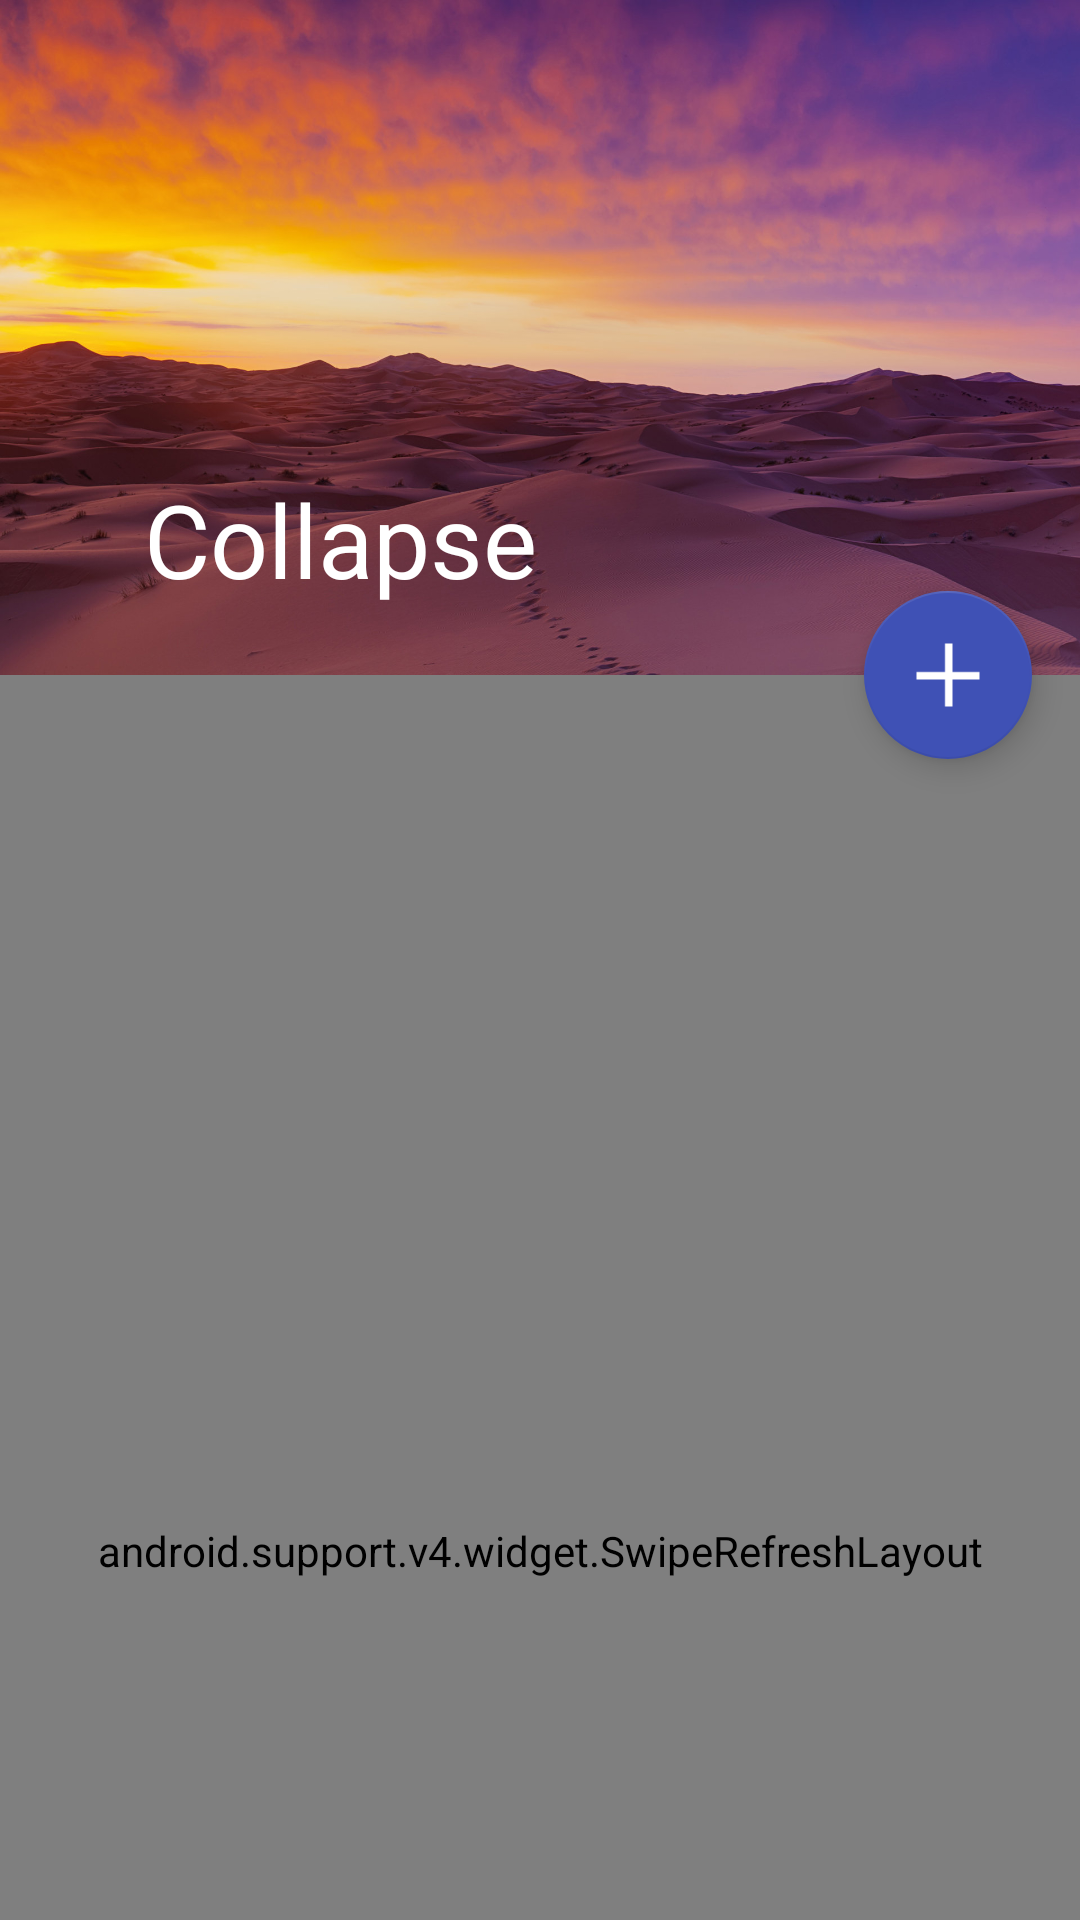

Where to tap for icons on this 1080w x 1920h app screen, as (x=x, y=y):
add: (x=948, y=675)
